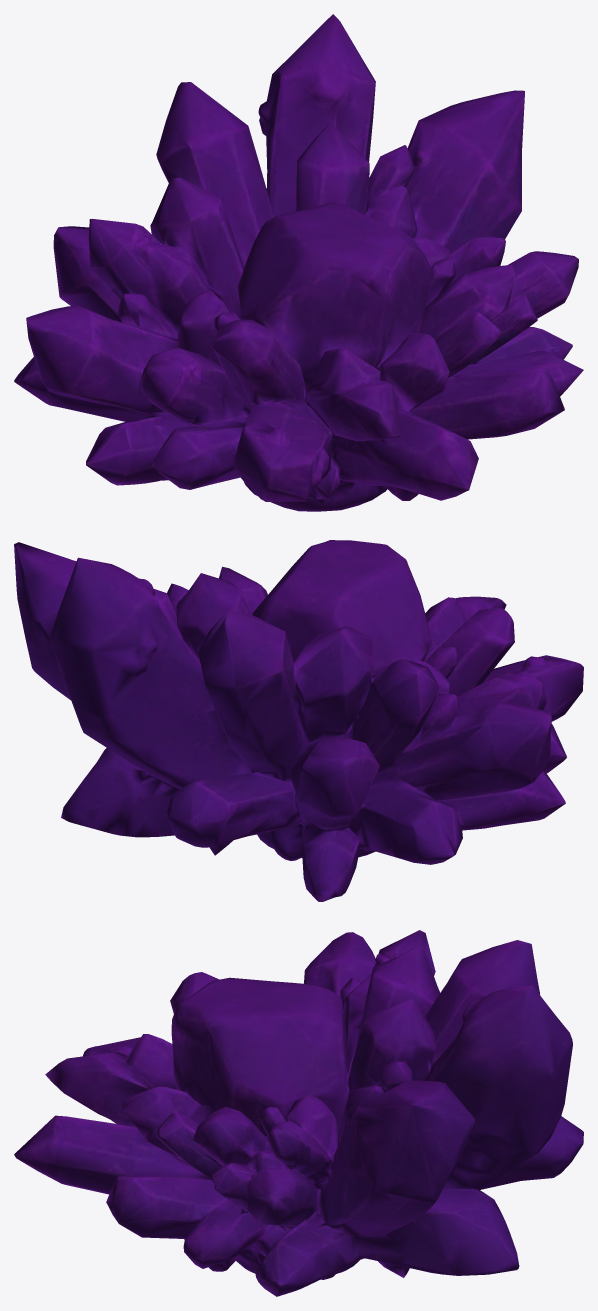
Rendered from purple-crystal.glb.
3 renders of one model, top to bottom at view 1: azimuth 30°, elevation 25°; view 2: azimuth 150°, elevation 25°; view 3: azimuth 270°, elevation 25°, orthographic. The views are drawn at different scales.
Size of the model in its own units: 1.9 by 1.19 by 1.85.
1 material, 1 textured.
